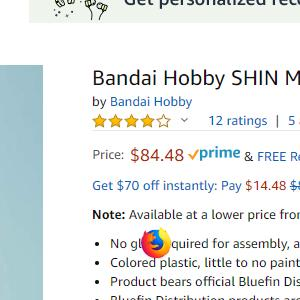firefox: (141, 227, 172, 259)
